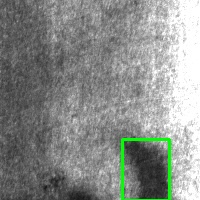patches: (122, 139, 169, 200)
